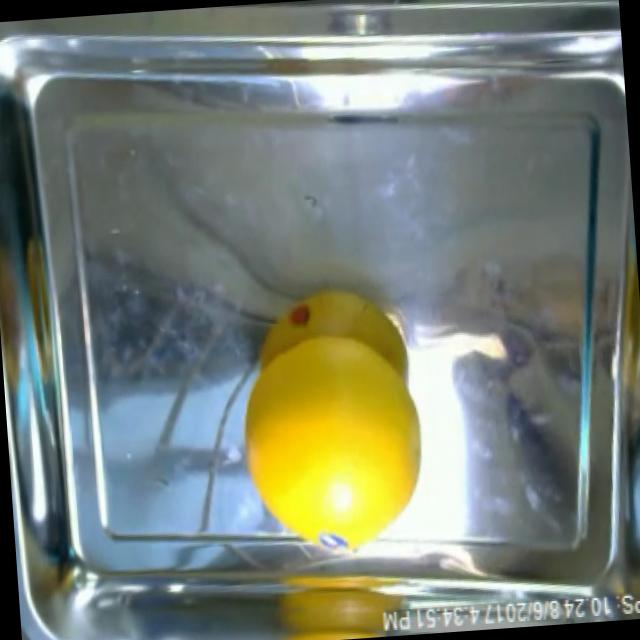Fruit: (254, 545, 414, 640)
